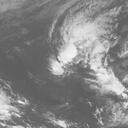cyclone: (49, 27, 107, 78)
